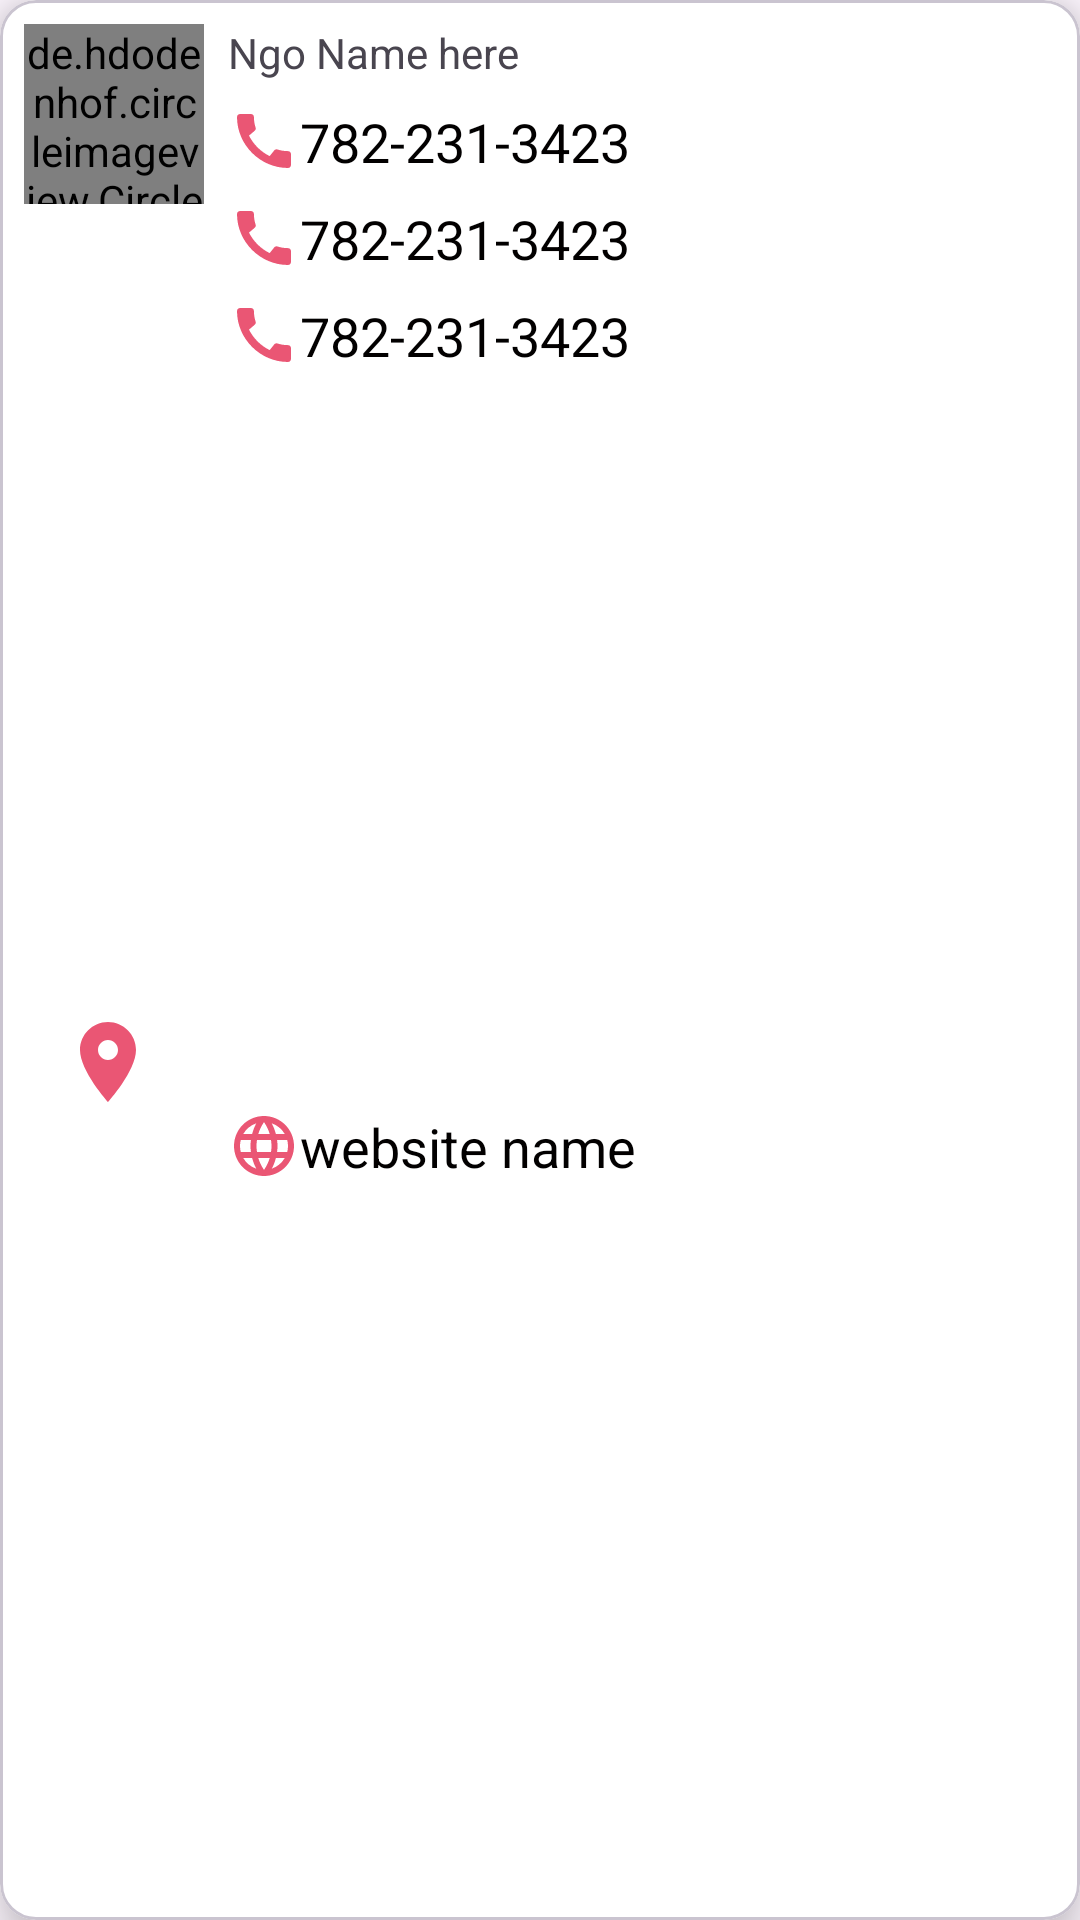

Locate icon controls on the screen. Image size 1080 x 1920, boxes as detection(x1, y1, x2, y2).
location on: detection(80, 1022, 136, 1102)
